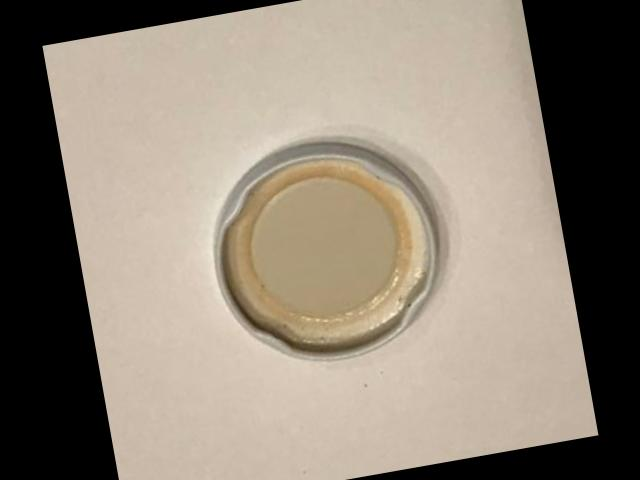metal: (212, 144, 434, 361)
